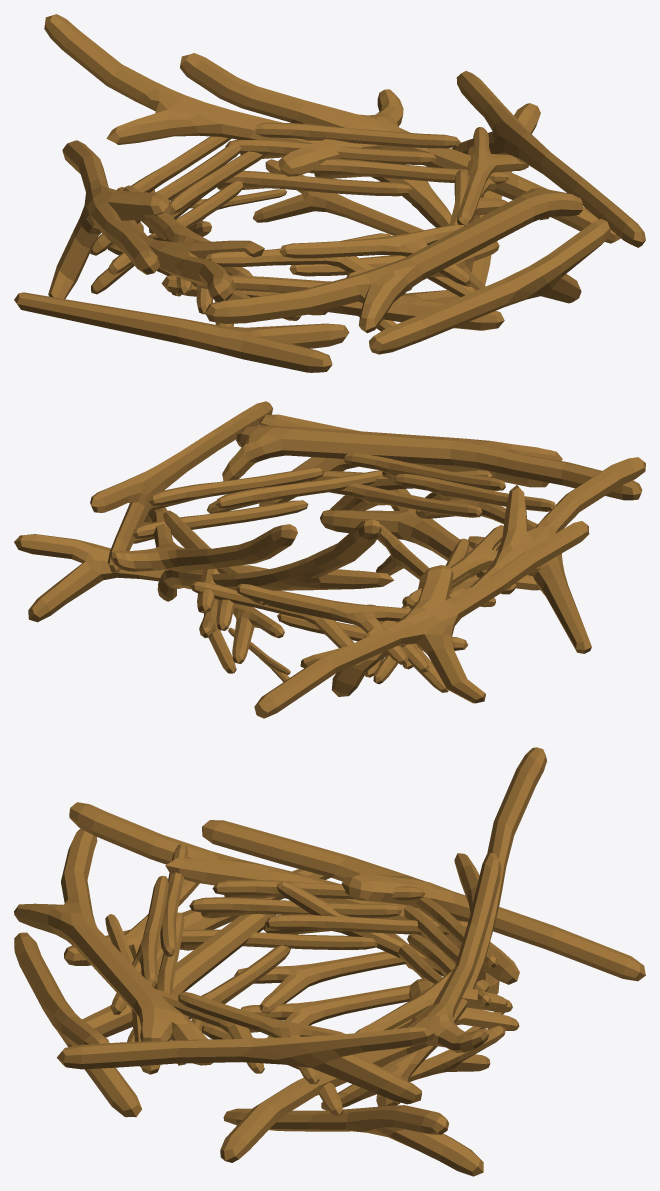
Rendered from Nest2.fbx.
3 views of the same model, one above another, from view 1: azimuth 30°, elevation 25°; view 2: azimuth 150°, elevation 25°; view 3: azimuth 270°, elevation 25° (orthographic). The views are drawn at different scales.
Visible parts, largest first — view 1: Nest2; view 2: Nest2; view 3: Nest2.
Part boxes in pixels (x1,y1,x2,y2): Nest2: (14,14,645,372); Nest2: (14,401,645,718); Nest2: (14,747,645,1176).
Bounding box in the file's own units: 94.38 × 38.57 × 89.44.
